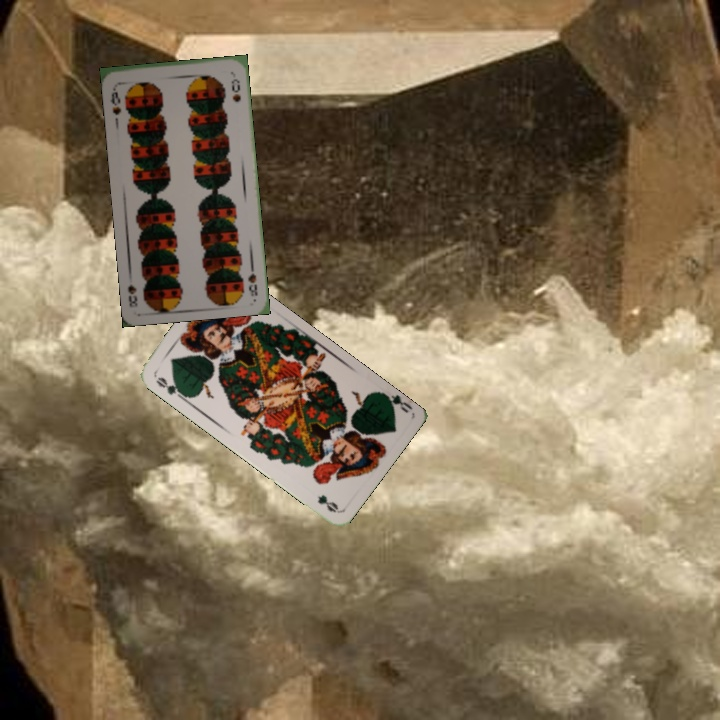GO: (151, 373, 188, 402), (376, 388, 413, 416)
S8: (244, 258, 260, 299), (107, 81, 124, 117)
